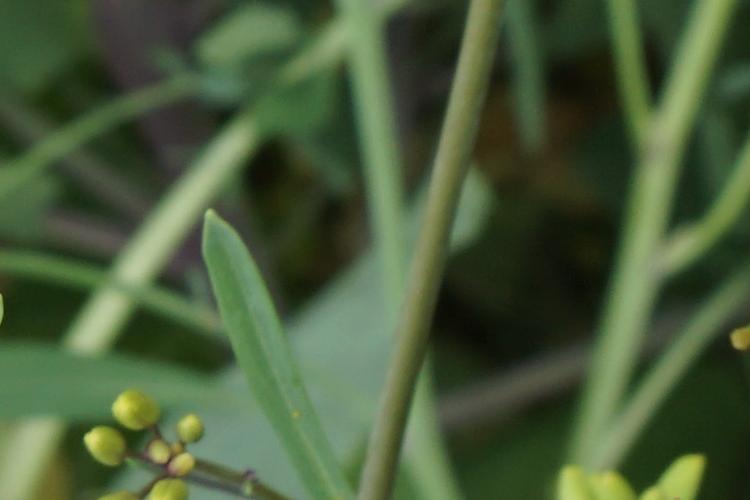bud: (107, 385, 171, 431), (78, 427, 131, 473), (144, 476, 192, 500), (169, 414, 204, 443), (171, 446, 200, 478), (139, 439, 170, 465)
